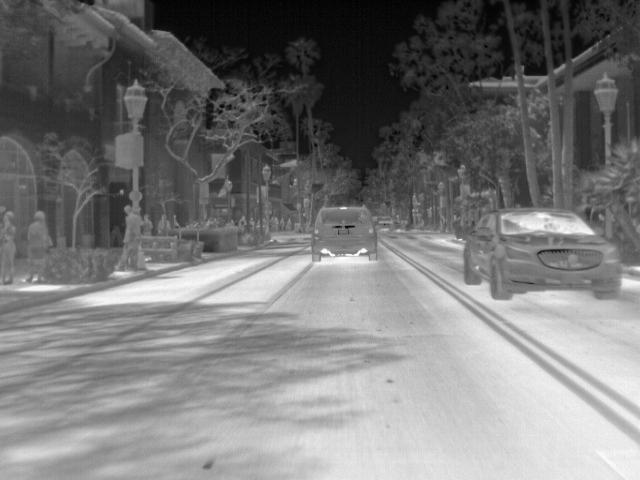car: (466, 208, 621, 299), (310, 204, 380, 260), (376, 214, 395, 230)
person: (25, 209, 52, 284), (119, 205, 143, 273), (1, 208, 18, 283), (156, 213, 172, 235), (142, 212, 155, 234), (285, 216, 295, 232), (279, 214, 287, 232), (238, 214, 248, 228), (246, 214, 256, 228)
